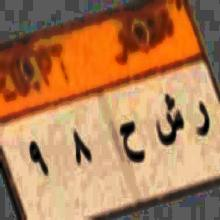7aa: (119, 118, 146, 169)
8: (72, 127, 93, 171)
9: (29, 138, 50, 186)
raa: (194, 97, 212, 150)
sheen: (153, 92, 185, 153)
